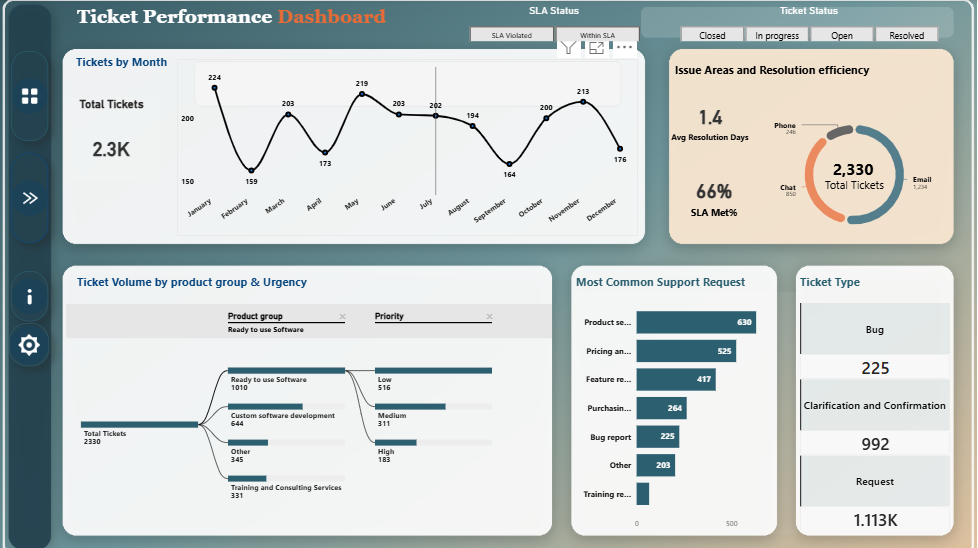

The dashboard page shown, as its layout file describes it:
{"tool":"powerbi","page":{"name":"Dashboard","canvas":[1835,1000],"ordinal":0},"visuals":[{"type":"lineChart","fields":{"Category":["Technical Support Dataset.Created time.Variation.Date Hierarchy.Month"],"Y":["Technical Support Dataset.Total Tickets"]},"box":[398,134,768,294],"z":0},{"type":"advanceCardE03760C5AB684758B56AA29F9E6C257B","title":"Total Tickets","fields":{"mainMeasure":["Technical Support Dataset.Total Tickets"]},"box":[208,196,162,140],"z":1000},{"type":"decompositionTreeVisual","fields":{"Analyze":["Technical Support Dataset.Total Tickets"],"ExplainBy":["Technical Support Dataset.Product group","Technical Support Dataset.Priority"]},"box":[208,536,820,390],"z":2000},{"type":"actionButton","box":[0,0,100,40],"z":3000},{"type":"donutE4A86F3675B84D178C45F7E034E25D6A","title":" ","fields":{"key":["Technical Support Dataset.Source"],"metric":["Technical Support Dataset.Total Tickets"]},"box":[1364,180,328,262],"z":4000},{"type":"advanceCardE03760C5AB684758B56AA29F9E6C257B","fields":{"mainMeasure":["Technical Support Dataset.Avg Resolution Days"]},"box":[1210,180,154,124],"z":5000},{"type":"advanceCardE03760C5AB684758B56AA29F9E6C257B","fields":{"mainMeasure":["Technical Support Dataset.SLA Met %"]},"box":[1224,304,140,124],"z":6000},{"type":"barChart","fields":{"Category":["Technical Support Dataset.Topic"],"Y":["Technical Support Dataset.Total Subjects"]},"box":[1058,522,374,404],"z":7000},{"type":"cardVisual","fields":{"Data":["Technical Support Dataset.Total Tickets"],"Rows":["Technical Support Dataset.Type"]},"box":[1431.1,535.6,260,391.1],"z":8000},{"type":"image","box":[122,120,62,150],"z":9000},{"type":"image","box":[122,290,62,150],"z":10000},{"type":"image","box":[122,486,62,84],"z":11000},{"type":"image","box":[118,574,67,72],"z":12000},{"type":"slicer","fields":{"Values":["Technical Support Dataset.Status"]},"box":[1166,40,284,62],"z":13000},{"type":"slicer","fields":{"Values":["Technical Support Dataset.SLA For Resolution"]},"box":[1470,40,222,62],"z":14000},{"type":"textbox","box":[1432,486,260,50],"z":15000},{"type":"textbox","box":[1058,486,346,66],"z":16000},{"type":"textbox","box":[226,486,774,66],"z":17000},{"type":"textbox","box":[1224,134,358,46],"z":18000},{"type":"textbox","box":[225.7,120,172.9,37.1],"z":19000},{"type":"textbox","box":[226,40,622,62],"z":20000}]}

Visuals, with their boxes on the page's 1835x1000 design canvas (x1, y1, x2, y2). These are canvas units, not pixel positions in the 978x548 screenshot, which may show the page scaled, cropped or inside an application window:
lineChart - Technical Support Dataset.Created time.Variation.Date Hierarchy.Month x Technical Support Dataset.Total Tickets: detection(398, 134, 1166, 428)
"Total Tickets" advanceCardE03760C5AB684758B56AA29F9E6C257B: detection(208, 196, 370, 336)
decompositionTreeVisual - Technical Support Dataset.Total Tickets x Technical Support Dataset.Product group: detection(208, 536, 1028, 926)
actionButton: detection(0, 0, 100, 40)
" " donutE4A86F3675B84D178C45F7E034E25D6A: detection(1364, 180, 1692, 442)
advanceCardE03760C5AB684758B56AA29F9E6C257B - Technical Support Dataset.Avg Resolution Days: detection(1210, 180, 1364, 304)
advanceCardE03760C5AB684758B56AA29F9E6C257B - Technical Support Dataset.SLA Met %: detection(1224, 304, 1364, 428)
barChart - Technical Support Dataset.Topic x Technical Support Dataset.Total Subjects: detection(1058, 522, 1432, 926)
cardVisual - Technical Support Dataset.Total Tickets x Technical Support Dataset.Type: detection(1431, 536, 1691, 927)
image: detection(122, 120, 184, 270)
image: detection(122, 290, 184, 440)
image: detection(122, 486, 184, 570)
image: detection(118, 574, 185, 646)
slicer - Technical Support Dataset.Status: detection(1166, 40, 1450, 102)
slicer - Technical Support Dataset.SLA For Resolution: detection(1470, 40, 1692, 102)
textbox: detection(1432, 486, 1692, 536)
textbox: detection(1058, 486, 1404, 552)
textbox: detection(226, 486, 1000, 552)
textbox: detection(1224, 134, 1582, 180)
textbox: detection(226, 120, 399, 157)
textbox: detection(226, 40, 848, 102)
